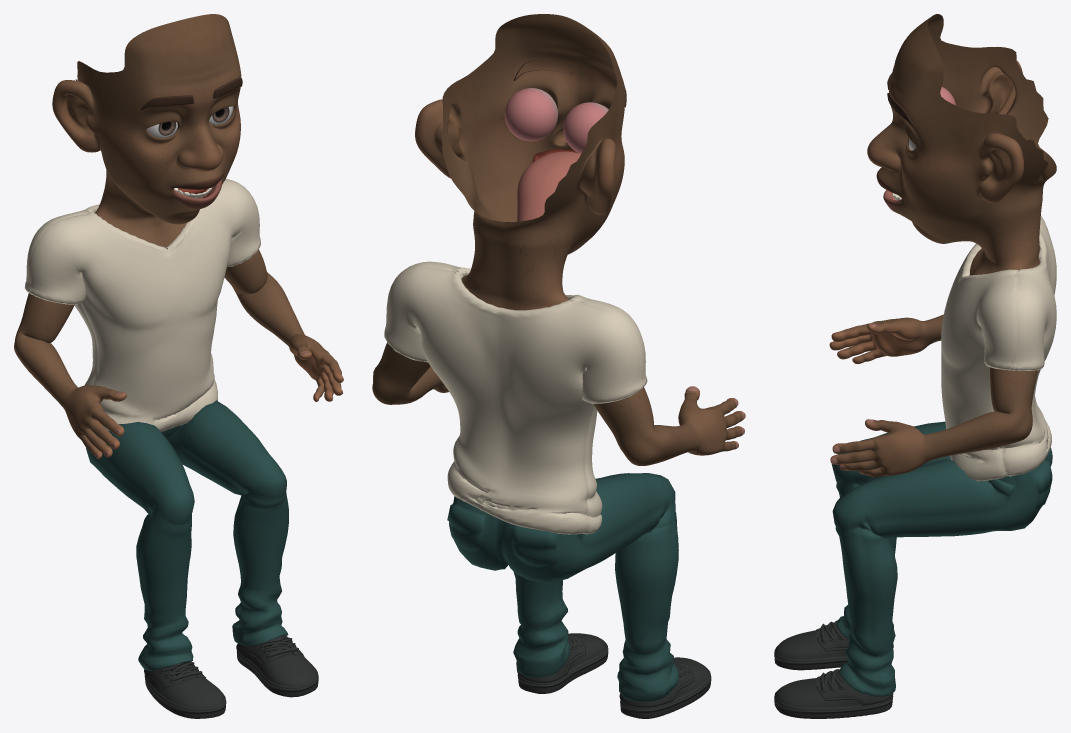
File: snow_customer.glb
3 renders of one model, left to right at view 1: azimuth 30°, elevation 25°; view 2: azimuth 150°, elevation 25°; view 3: azimuth 270°, elevation 25°, orthographic. The views are drawn at different scales.
Visible parts, largest first — view 1: Snow-shirt_customer, Snow-head_customer, Snow-pants_customer, Snow-body_customer, Snow-shoes_base_customer, Snow-shoes_parts_customer, Snow-eyebrows_customer, Snow-eyes_customer; view 2: Snow-shirt_customer, Snow-head_customer, Snow-pants_customer, Snow-body_customer, Snow-eyes_customer, Snow-shoes_base_customer, Snow-shoes_parts_customer; view 3: Snow-head_customer, Snow-pants_customer, Snow-shirt_customer, Snow-body_customer, Snow-shoes_base_customer, Snow-shoes_parts_customer.
Part boxes in pixels (<box>): Snow-shirt_customer: <box>24,179,260,431</box>; Snow-head_customer: <box>52,14,241,247</box>; Snow-pants_customer: <box>86,400,288,670</box>; Snow-body_customer: <box>14,249,343,459</box>; Snow-shoes_base_customer: <box>144,636,318,718</box>; Snow-shoes_parts_customer: <box>144,635,303,689</box>; Snow-eyebrows_customer: <box>140,77,242,110</box>; Snow-eyes_customer: <box>146,106,233,137</box>; Snow-shirt_customer: <box>384,261,647,534</box>; Snow-head_customer: <box>415,14,625,310</box>; Snow-pants_customer: <box>447,473,679,702</box>; Snow-body_customer: <box>372,342,745,465</box>; Snow-eyes_customer: <box>504,88,608,153</box>; Snow-shoes_base_customer: <box>517,633,711,718</box>; Snow-shoes_parts_customer: <box>516,635,694,707</box>; Snow-head_customer: <box>867,14,1056,275</box>; Snow-pants_customer: <box>831,421,1052,696</box>; Snow-shirt_customer: <box>941,215,1056,481</box>; Snow-body_customer: <box>829,314,1037,477</box>; Snow-shoes_base_customer: <box>774,625,893,718</box>; Snow-shoes_parts_customer: <box>816,620,893,705</box>.
Bounding box in the file's own units: 0.9203 × 2.13 × 0.8272.
Materials: 10 (4 with a texture image).
